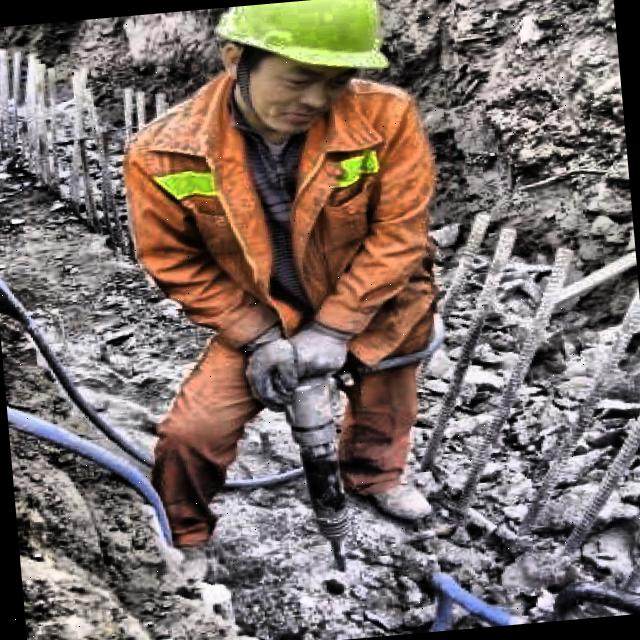helmet: (200, 0, 401, 143)
